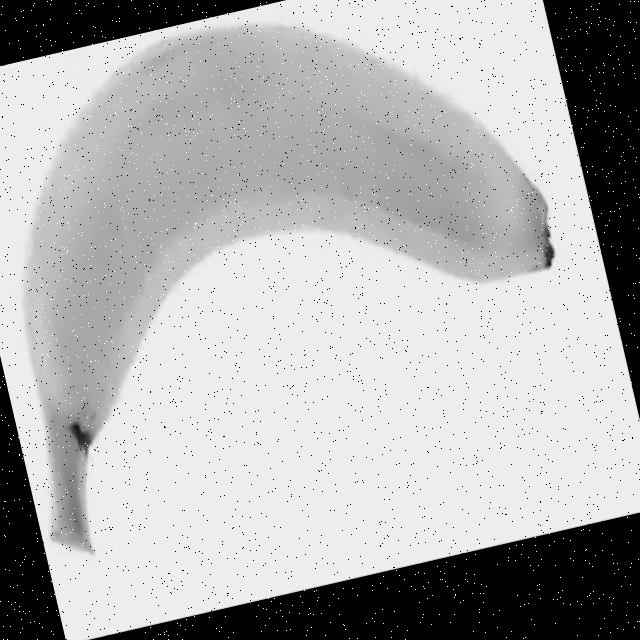banana: (0, 0, 602, 563)
